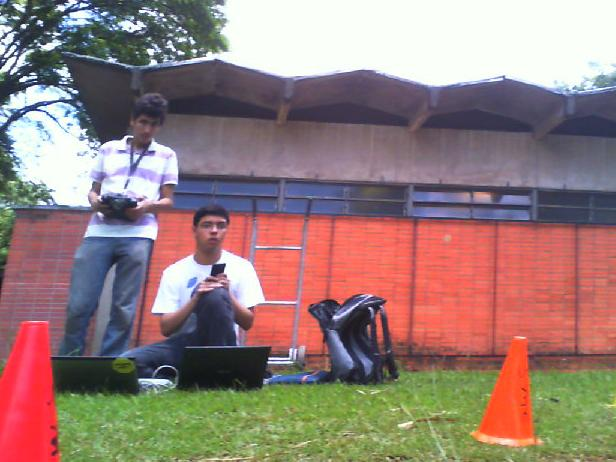0 cone: (0, 320, 60, 462), (470, 336, 544, 446), (606, 333, 616, 407)
